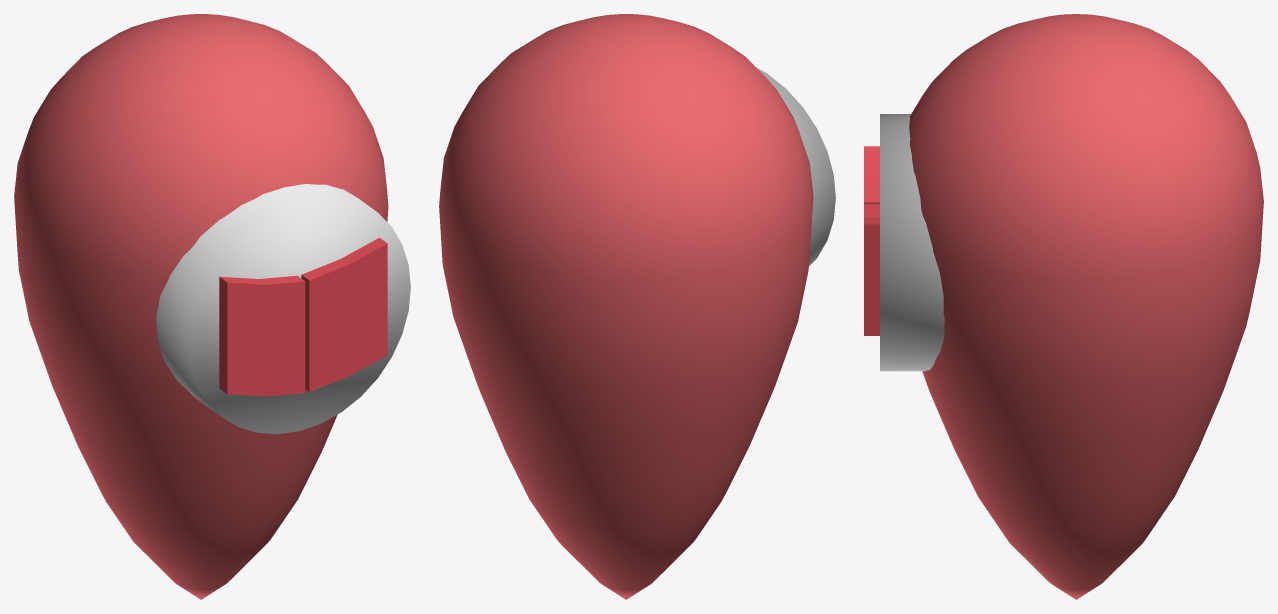
The model's file is historyPin.glb.
3 views of the same model, side by side, from view 1: azimuth 30°, elevation 25°; view 2: azimuth 150°, elevation 25°; view 3: azimuth 270°, elevation 25° (orthographic).
Visible parts, largest first — view 1: pin, Cylinder.001, Cube.036; view 2: pin, Cylinder.001; view 3: pin, Cylinder.001, Cube.036.
Part boxes in pixels (x1=…): pin: x1=14, y1=14, x2=388, y2=599; Cylinder.001: x1=156, y1=183, x2=410, y2=434; Cube.036: x1=219, y1=237, x2=387, y2=396; pin: x1=439, y1=14, x2=813, y2=599; Cylinder.001: x1=756, y1=67, x2=835, y2=265; pin: x1=909, y1=14, x2=1263, y2=599; Cylinder.001: x1=880, y1=114, x2=944, y2=371; Cube.036: x1=864, y1=146, x2=879, y2=335.
Size of the model in its own units: 0.2435 by 0.4072 by 0.2595.
